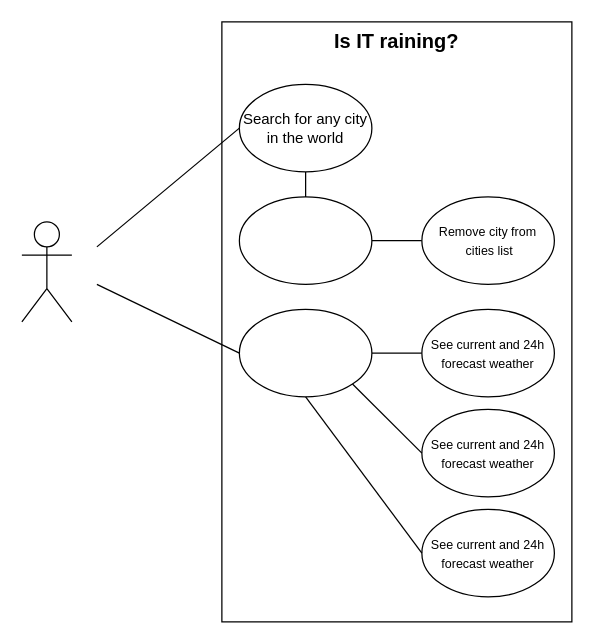
Image size: 594x644. Some labels were removed from this diagram. The shapes that lost their labels are listed below. From the top down, each one's centre as x and y in pixels, then its label:
At pixel 305 240: "Add city to cities list".
At pixel 46 271: "User".
At pixel 305 352: "See city weather".
